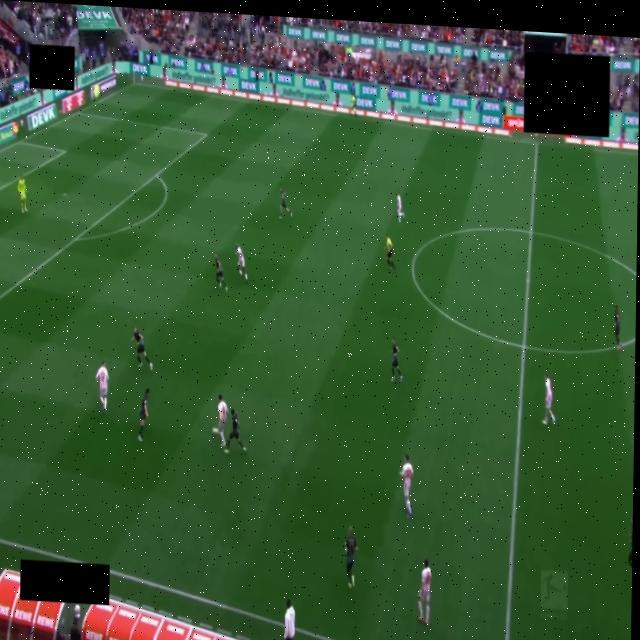player: (224, 409, 246, 453), (132, 326, 152, 369), (418, 559, 431, 625), (212, 395, 227, 447), (400, 454, 412, 517), (345, 527, 357, 588), (95, 361, 109, 412), (543, 376, 555, 425), (139, 388, 149, 441), (392, 339, 403, 382), (215, 254, 227, 292), (236, 244, 248, 281), (279, 188, 292, 219), (18, 175, 27, 213), (615, 305, 621, 350), (397, 192, 404, 223)
referee: (386, 235, 394, 269)
